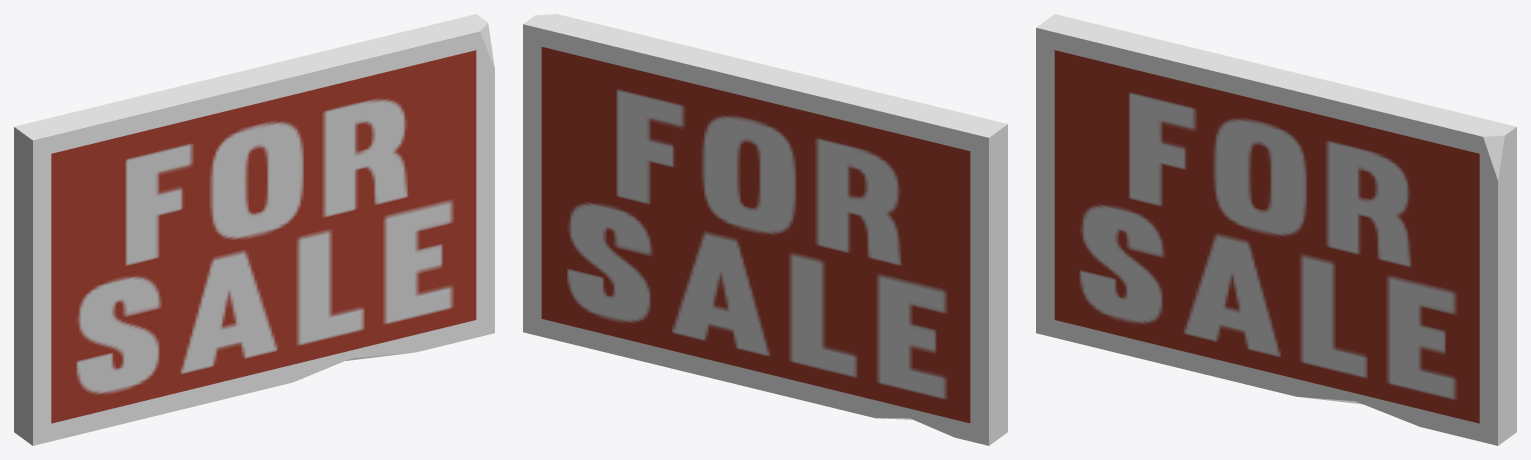
The model's file is SM_Prop_ForSaleSign_01.002.obj.
3 views of the same model, side by side, from view 1: azimuth 30°, elevation 25°; view 2: azimuth 150°, elevation 25°; view 3: azimuth 330°, elevation 25° (orthographic).
Visible parts, largest first — view 1: SM_Prop_ForSaleSign_01.002_0; view 2: SM_Prop_ForSaleSign_01.002_0; view 3: SM_Prop_ForSaleSign_01.002_0.
Boxes of the visible parts, x1=… form: SM_Prop_ForSaleSign_01.002_0: x1=14, y1=14, x2=494, y2=445; SM_Prop_ForSaleSign_01.002_0: x1=523, y1=14, x2=1007, y2=445; SM_Prop_ForSaleSign_01.002_0: x1=1036, y1=14, x2=1516, y2=445.
Bounding box in the file's own units: 0.8605 × 0.5436 × 0.0606.
1 material, 1 textured.
